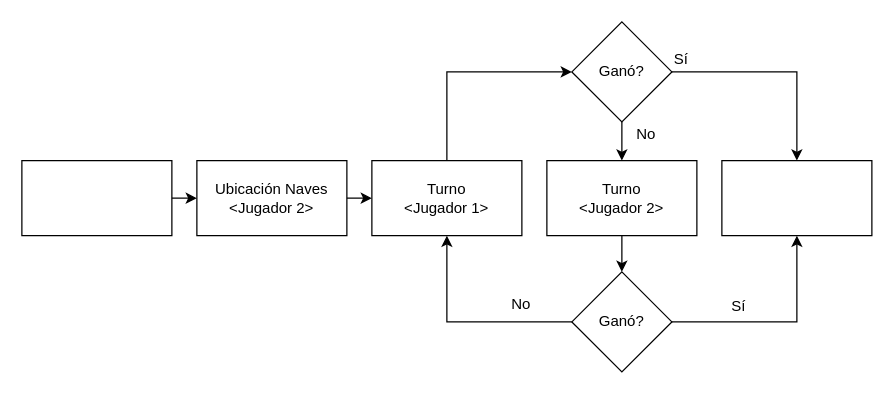
Image size: 894x394. Some labels were removed from this diagram. Here are the shapes that lost their labels. From the top down, the box of each, then its label:
(21, 159, 172, 236): Ubicación Naves <Jugador 1>
(721, 159, 872, 236): Pantalla Resultado
